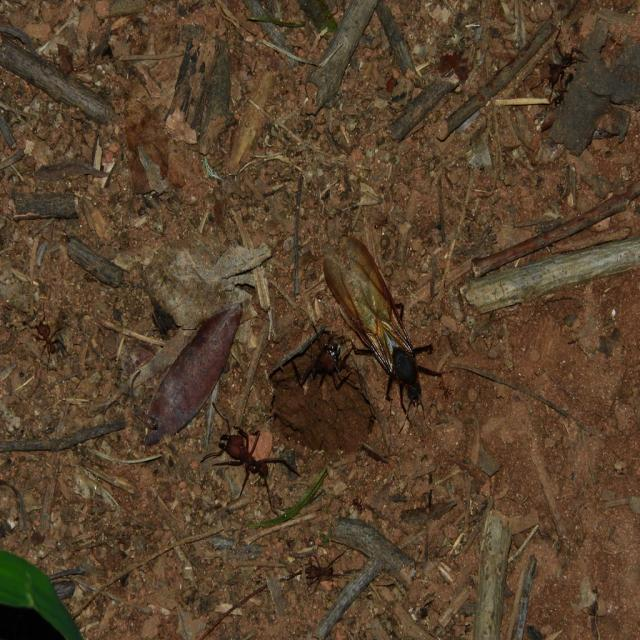Alive-Female-Alate: (323, 236, 454, 434)
